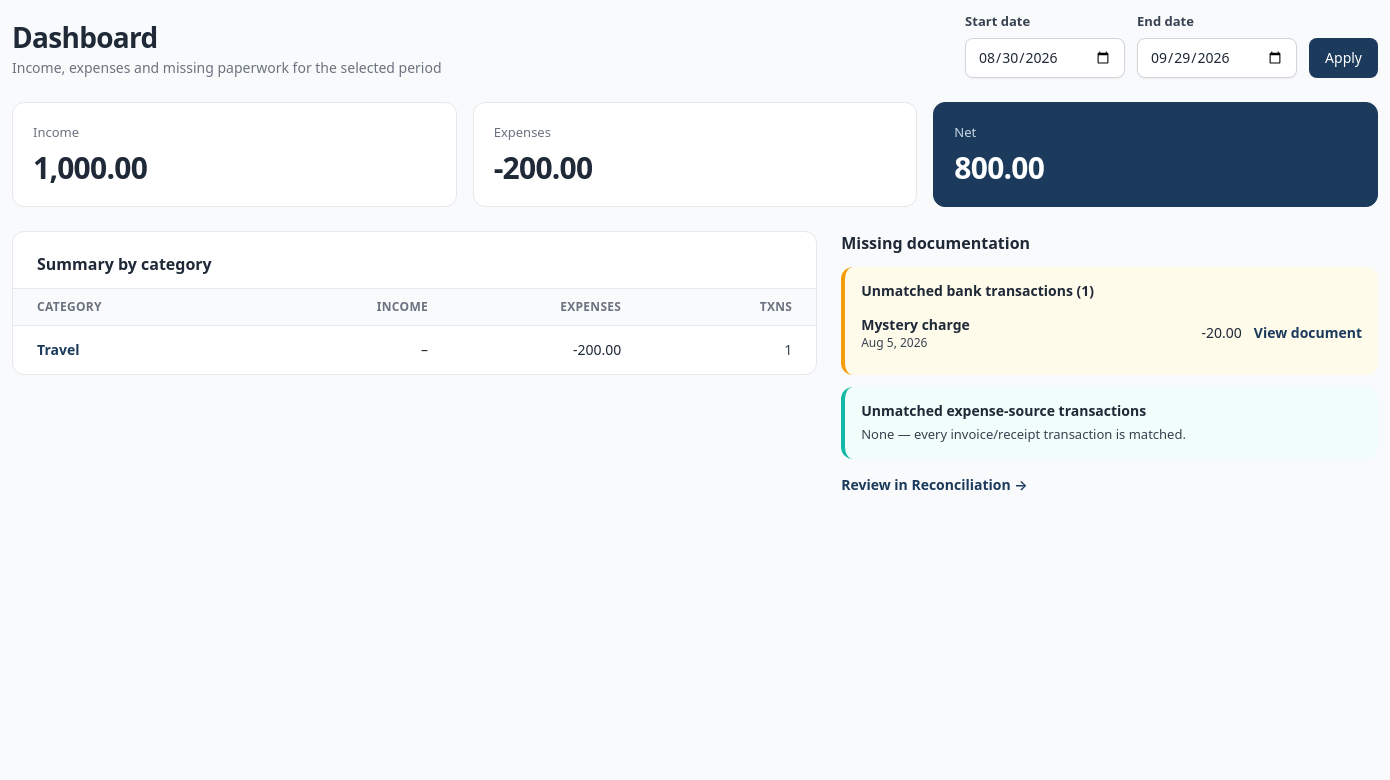
Test: dashboard › drills down from a missing-documentation flag to its source document
Check: the link "Mystery charge" is shown, box left=861, top=315, right=970, bottom=334
Click the button "View document" at coordinates (1308, 333), box left=1254, top=323, right=1362, bottom=343
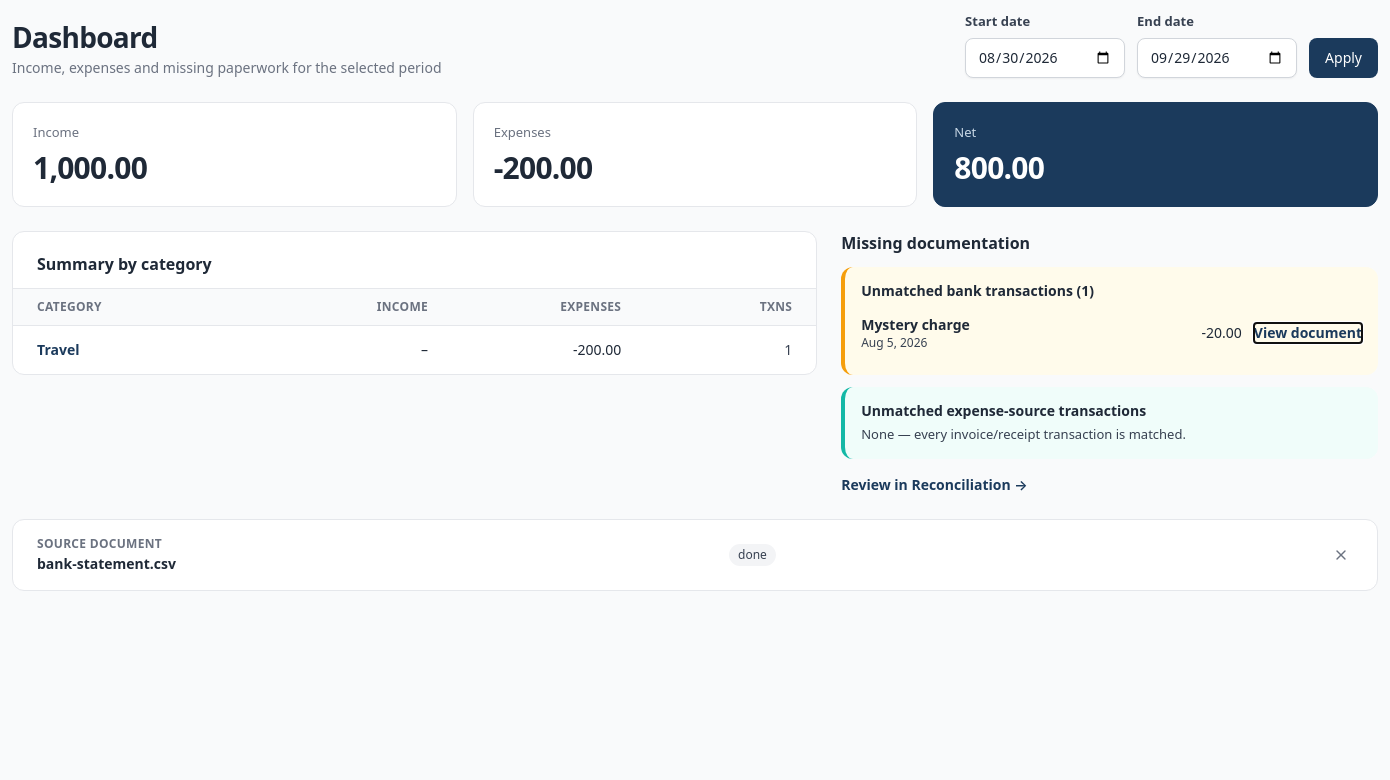
Check: the element with test id "document-preview" is shown, box left=12, top=518, right=1378, bottom=590
